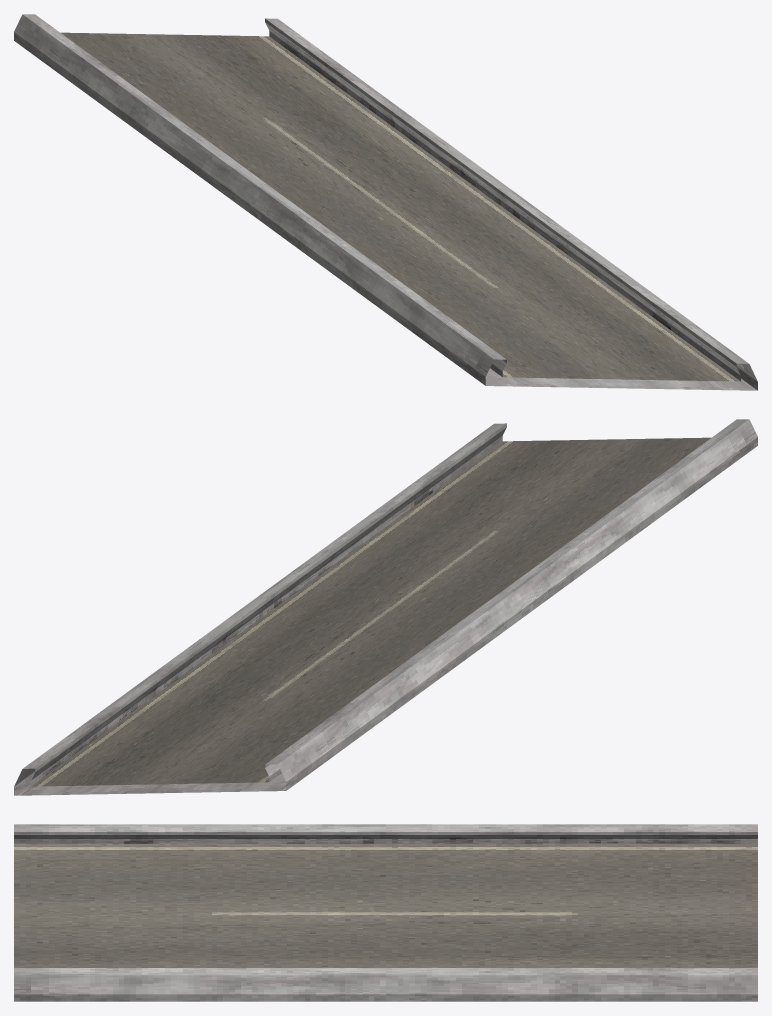
Rendered from straight3.glb.
The picture shows the model from 3 angles, top to bottom: view 1: azimuth 30°, elevation 25°; view 2: azimuth 150°, elevation 25°; view 3: azimuth 270°, elevation 25°; orthographic projection. The views are drawn at different scales.
Visible parts, largest first — view 1: road-Straight-HalfBankedRight-HalfBankedRight-Even-Center-Si; view 2: road-Straight-HalfBankedRight-HalfBankedRight-Even-Center-Si; view 3: road-Straight-HalfBankedRight-HalfBankedRight-Even-Center-Si.
Boxes of the visible parts, bbox=[...] form: road-Straight-HalfBankedRight-HalfBankedRight-Even-Center-Si: bbox=[14, 14, 757, 390]; road-Straight-HalfBankedRight-HalfBankedRight-Even-Center-Si: bbox=[14, 419, 757, 795]; road-Straight-HalfBankedRight-HalfBankedRight-Even-Center-Si: bbox=[14, 824, 757, 1001].
Bounding box in the file's own units: 1 × 0.3359 × 3.
Materials: 2 (2 with a texture image).
